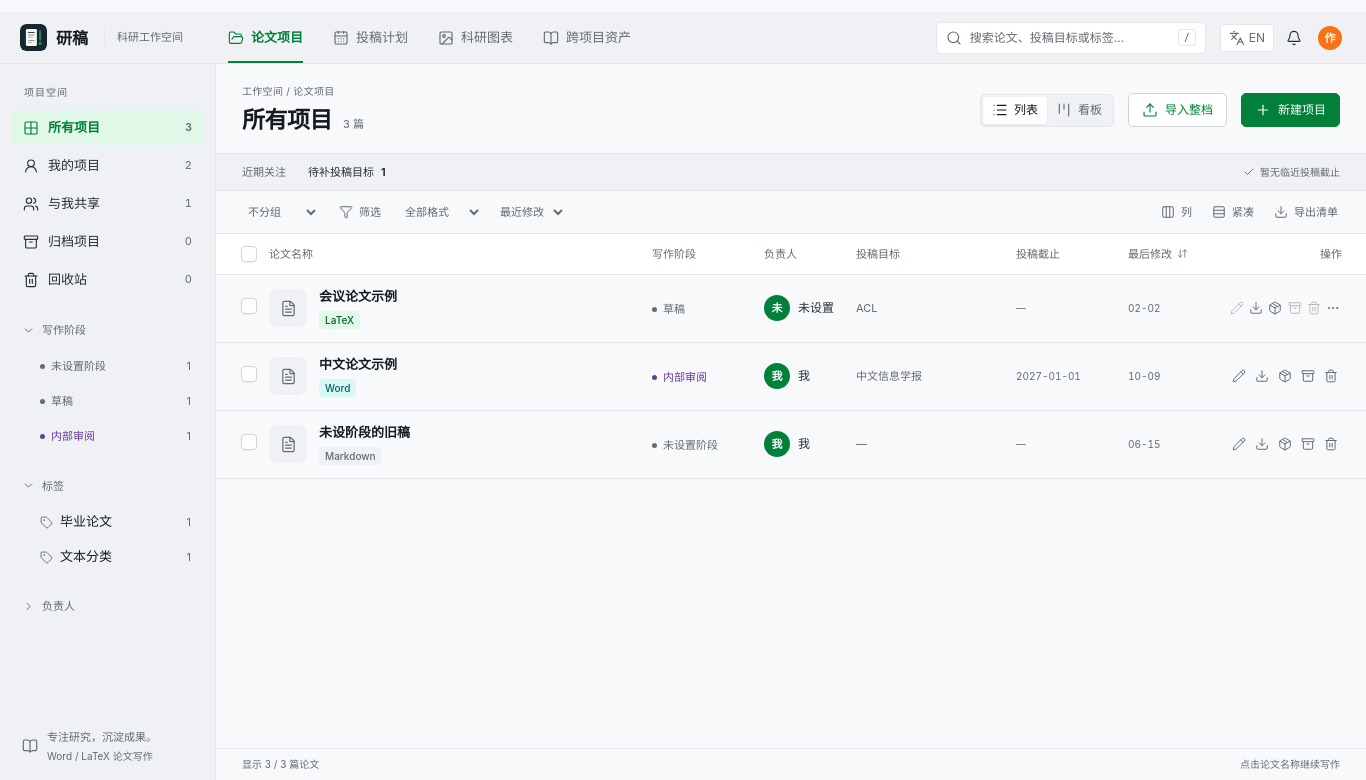
Test: 只读项目可查看但无法编辑或批量归档
Expected: the button named "编辑 会议论文示例 的项目信息" is disabled, x1=1228 y1=294 x2=1245 y2=322
What coordinates should you click on to do the following:
click the checkbox named "选择 会议论文示例"
I would click on:
 (249, 306)
Its box is x1=241 y1=298 x2=257 y2=314.
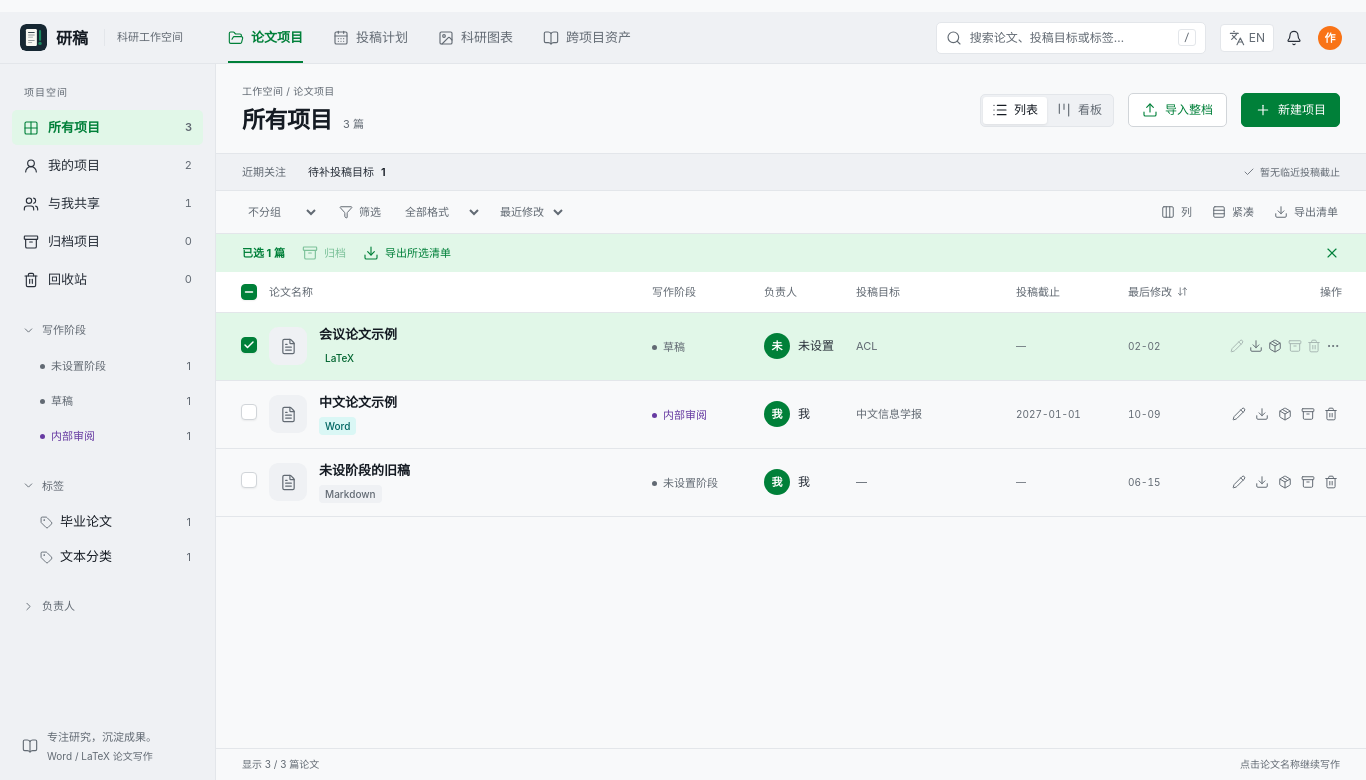
Now the button "归档" is disabled, box x1=302 y1=239 x2=346 y2=267
